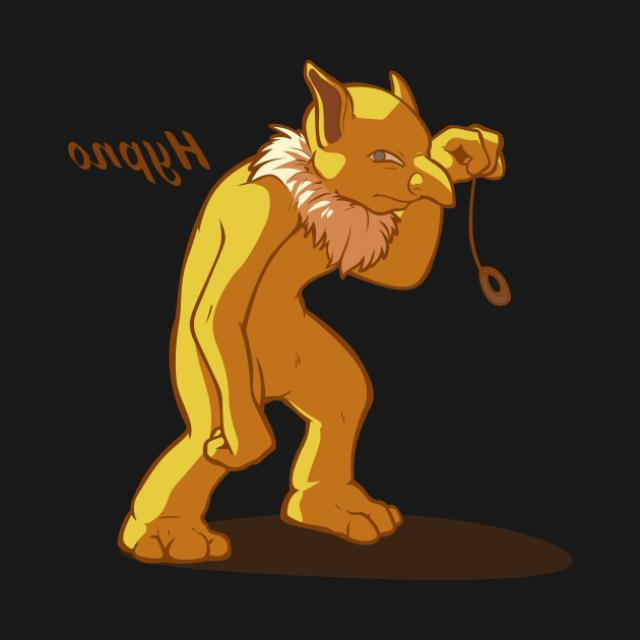Hypno: (160, 63, 501, 542)
